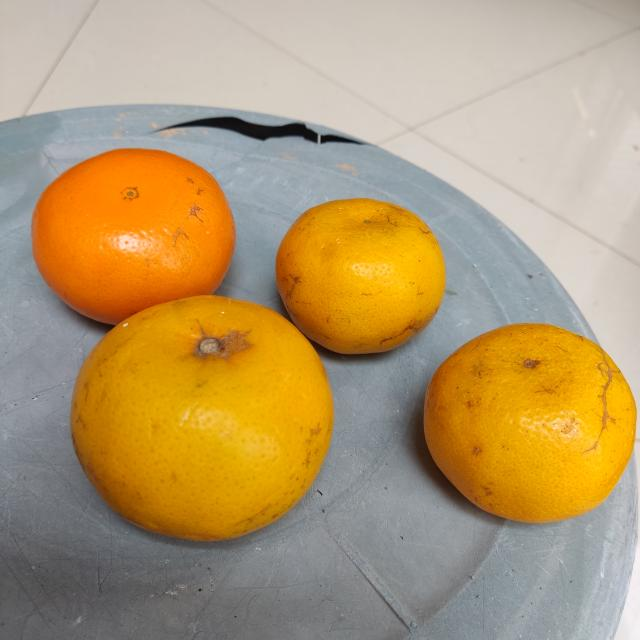orange: (71, 296, 334, 545), (422, 320, 640, 529), (275, 198, 447, 358)
